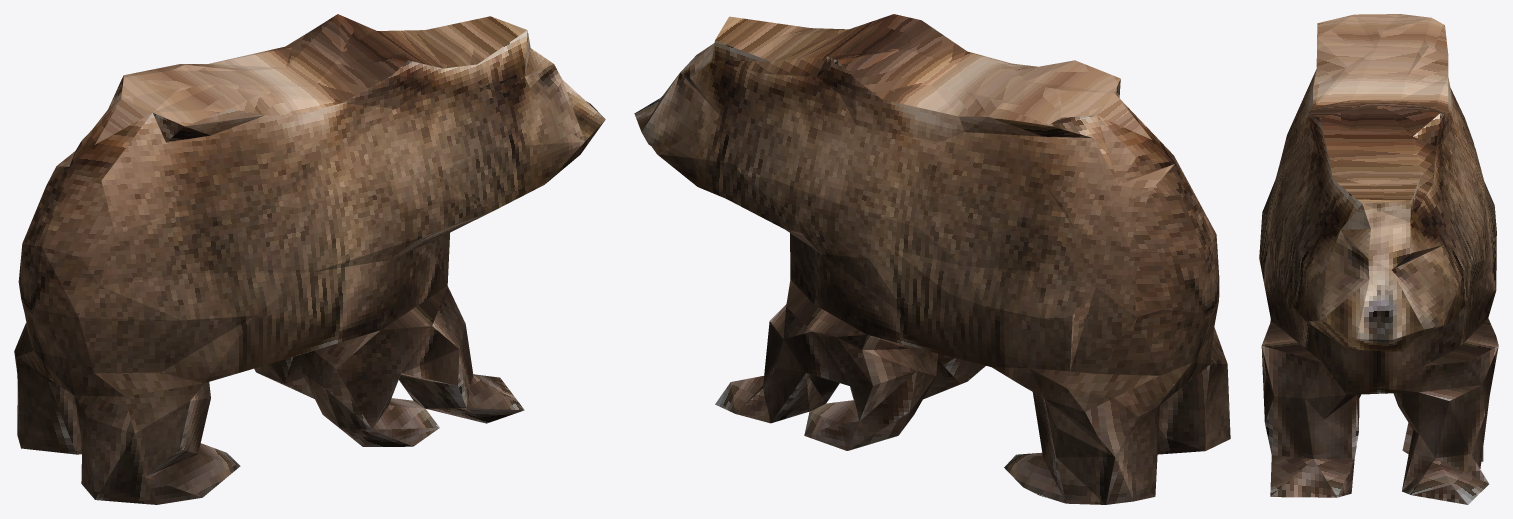
File: animal.salvaje.oso.glb
3 views of the same model, side by side, from view 1: azimuth 30°, elevation 25°; view 2: azimuth 150°, elevation 25°; view 3: azimuth 270°, elevation 25° (orthographic). The views are drawn at different scales.
Parts seen in each view (by area): view 1: animal.salvaje.oso; view 2: animal.salvaje.oso; view 3: animal.salvaje.oso.
Part boxes in pixels (bbox=[...]): animal.salvaje.oso: bbox=[14, 14, 605, 504]; animal.salvaje.oso: bbox=[634, 14, 1230, 504]; animal.salvaje.oso: bbox=[1259, 14, 1498, 504].
Size of the model in its own units: 2.2 by 1.37 by 0.8403.
Materials: 1 (1 with a texture image).
